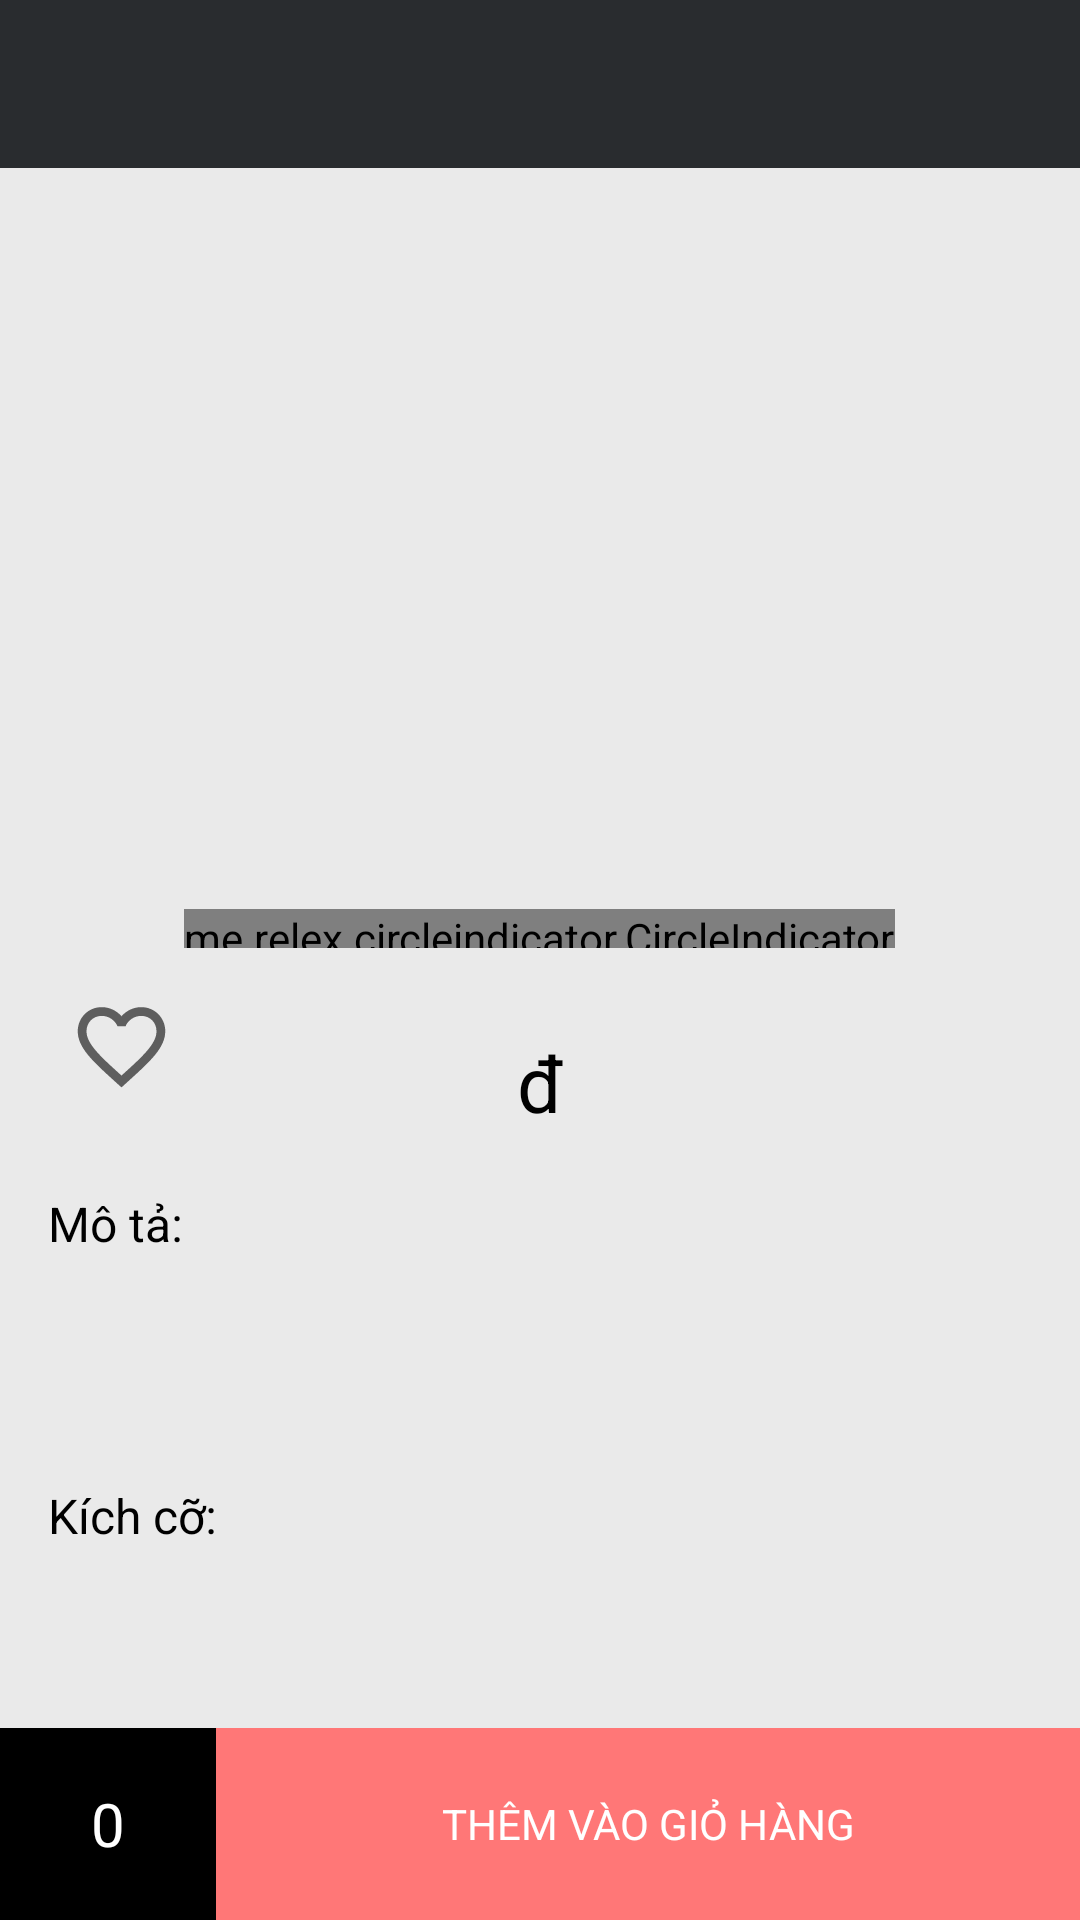

Icon click points for this 1080×1920 phone screenshot, format [x,y]:
unlike: [121,1047]
